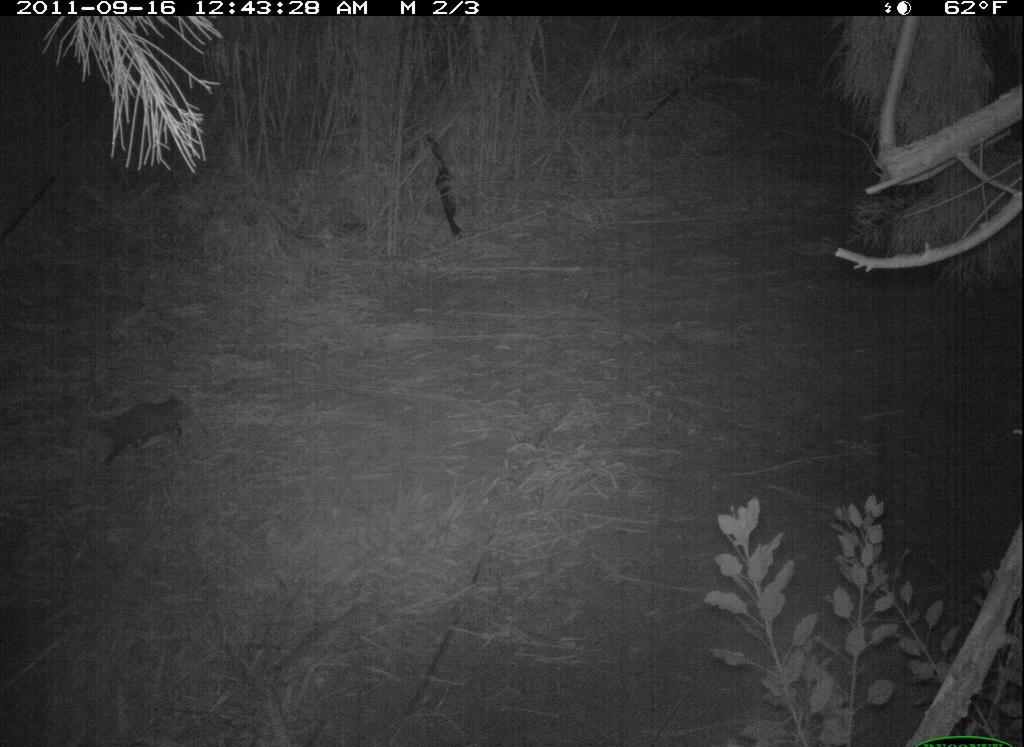opossum: (67, 386, 214, 473)
